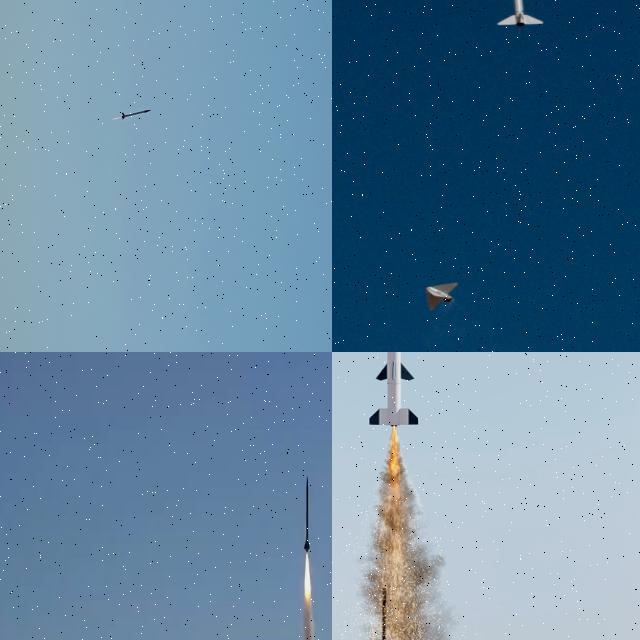Rocket: (368, 352, 420, 425), (494, 0, 545, 29), (303, 474, 311, 554), (121, 109, 151, 120)
